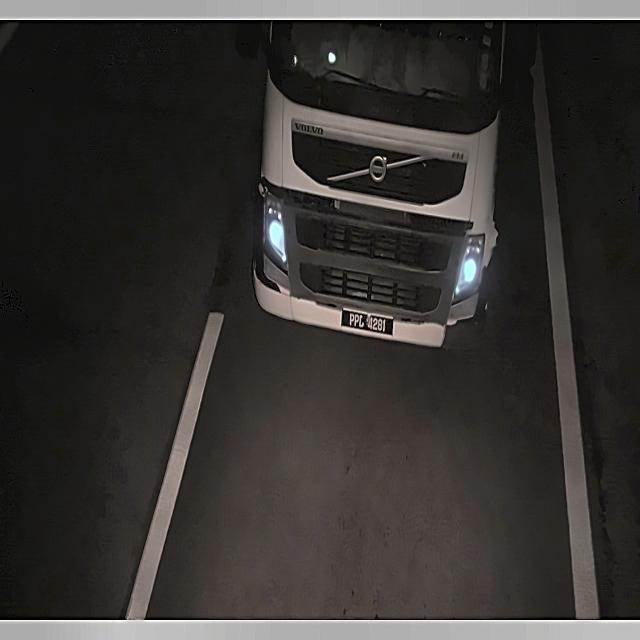car: (339, 305, 395, 341)
